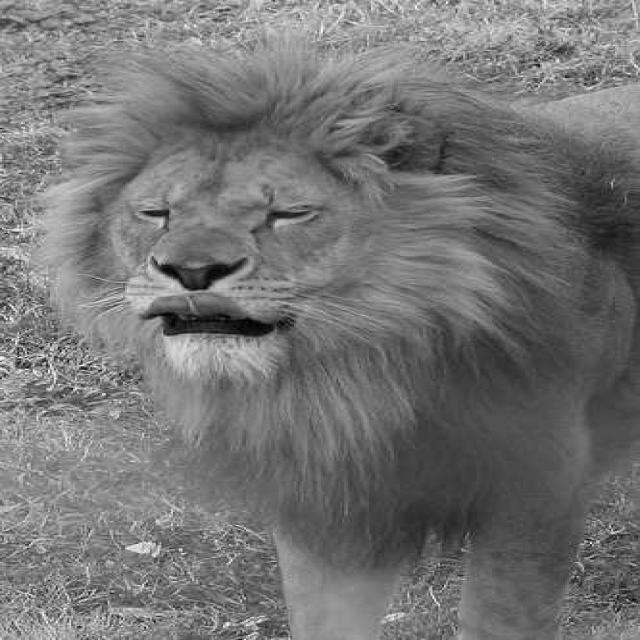Lion: (48, 45, 602, 566)
